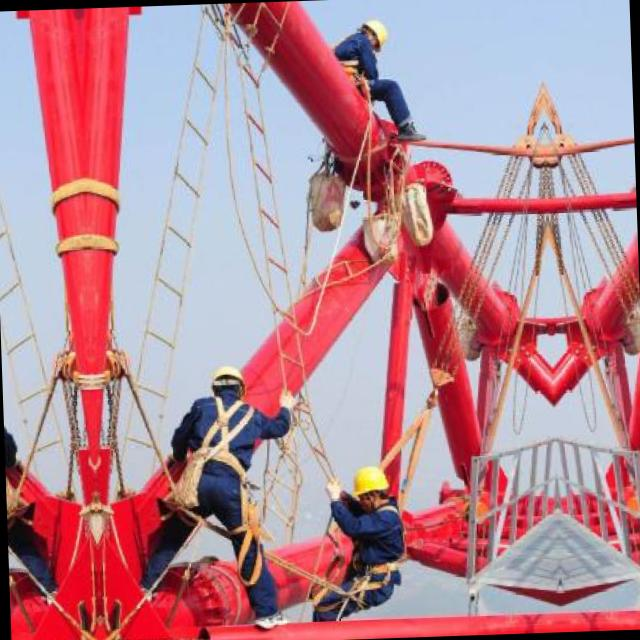helmet: (202, 358, 252, 407), (348, 463, 387, 512), (353, 12, 390, 58)
